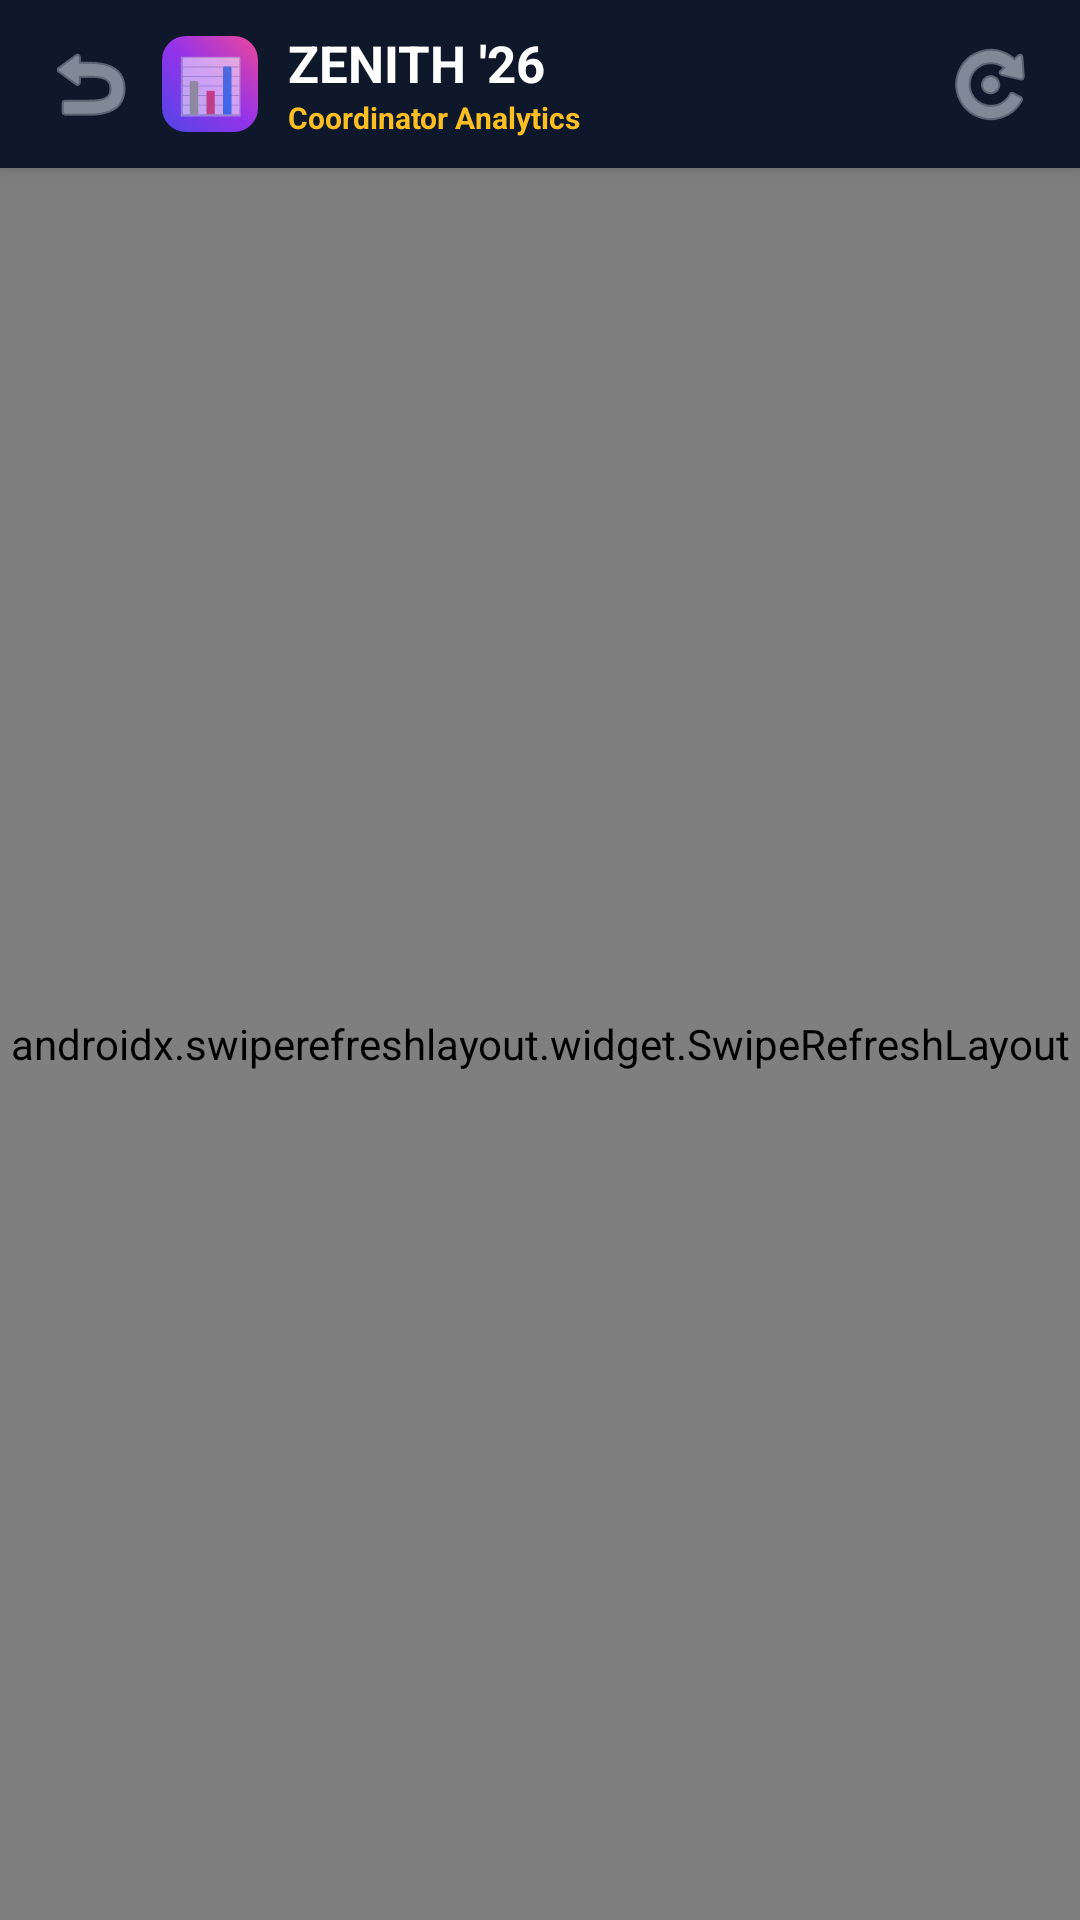

Where to tap for icons on this 1080px x 1920px app screen, as [x,y]:
Back: [91,84]
